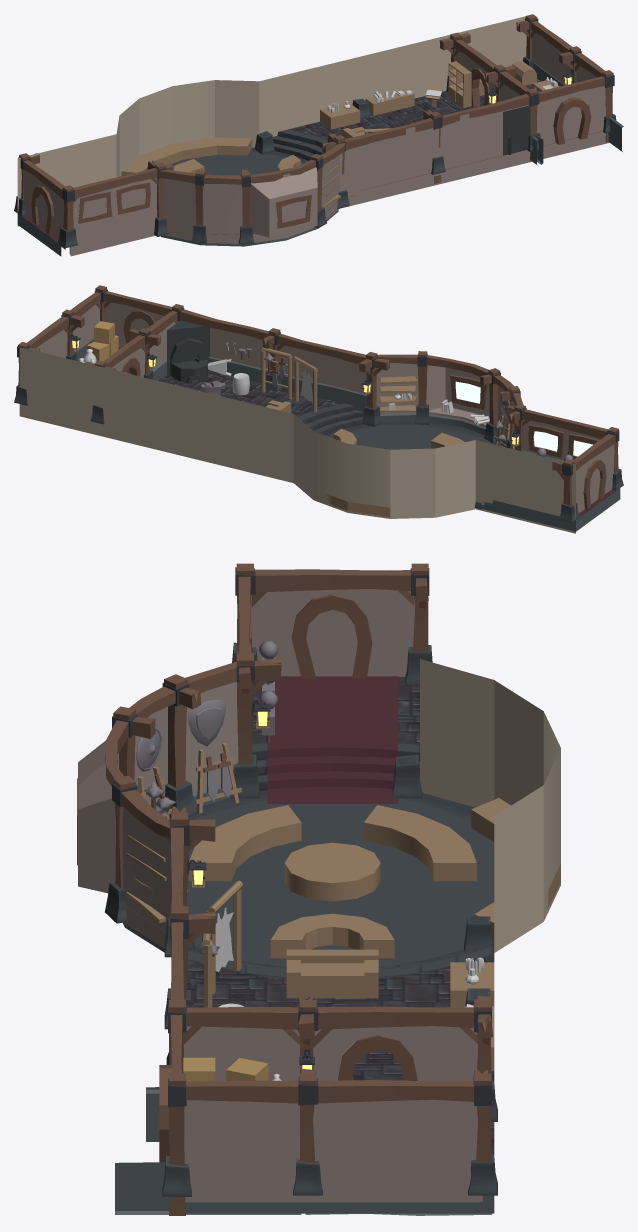
Rendered from Shop_Layout_v02_001.fbx.
3 renders of one model, top to bottom at view 1: azimuth 30°, elevation 25°; view 2: azimuth 150°, elevation 25°; view 3: azimuth 270°, elevation 25°, orthographic. The views are drawn at different scales.
Visible parts, largest first — view 1: Walls_geo, WallShop_bottom_geo, Wood01_geo, Steps_geo, PillarBlocks_geo, Floor_geo, Metal02_geo, Display_bottom_geo, Metal01_geo, pCube110, pCube122, pCube126 (+1 smaller); view 2: WallShop_bottom_geo, Wood01_geo, Walls_geo, Metal02_geo, Steps_geo, PillarBlocks_geo, Floor_geo, pCube110, Metal01_geo, pPipe14, Display_bottom_geo, pPipe15 (+4 smaller); view 3: Walls_geo, Wood01_geo, Steps_geo, WallShop_bottom_geo, polySurface5, Floor_geo, Display_floor_geo, PillarBlocks_geo, Metal02_geo, Display_center_geo, CraftingTable, Till_geo (+4 smaller).
Part boxes in pixels (x1,y1,x2,y2): Walls_geo: (23, 33, 609, 256); WallShop_bottom_geo: (17, 16, 526, 226); Wood01_geo: (19, 14, 613, 234); Steps_geo: (172, 129, 368, 216); PillarBlocks_geo: (14, 56, 616, 248); Floor_geo: (21, 78, 602, 242); Metal02_geo: (17, 62, 623, 256); Display_bottom_geo: (121, 137, 252, 175); Metal01_geo: (18, 18, 614, 202); pCube110: (503, 94, 530, 155); pCube122: (320, 102, 360, 129); pCube126: (365, 88, 414, 115); WallShop_bottom_geo: (19, 347, 575, 533); Wood01_geo: (18, 285, 618, 509); Walls_geo: (36, 301, 614, 513); Metal02_geo: (75, 338, 620, 531); Steps_geo: (297, 403, 503, 449); PillarBlocks_geo: (14, 351, 623, 522); Floor_geo: (109, 347, 615, 517); pCube110: (167, 320, 209, 374); Metal01_geo: (17, 289, 619, 476); pPipe14: (170, 358, 208, 381); Display_bottom_geo: (325, 494, 390, 516); pPipe15: (170, 337, 208, 363); Walls_geo: (78, 589, 482, 1202); Wood01_geo: (77, 563, 492, 1215); Steps_geo: (141, 742, 494, 978); WallShop_bottom_geo: (420, 659, 560, 952); polySurface5: (267, 676, 398, 803); Floor_geo: (187, 677, 494, 1154); Display_floor_geo: (188, 805, 476, 881); PillarBlocks_geo: (105, 642, 497, 1196); Metal02_geo: (115, 785, 494, 1215); Display_center_geo: (284, 842, 380, 901); CraftingTable: (286, 949, 378, 998); Till_geo: (270, 913, 394, 958).
Bounding box in the file's own units: 4453 × 576 × 1742.
